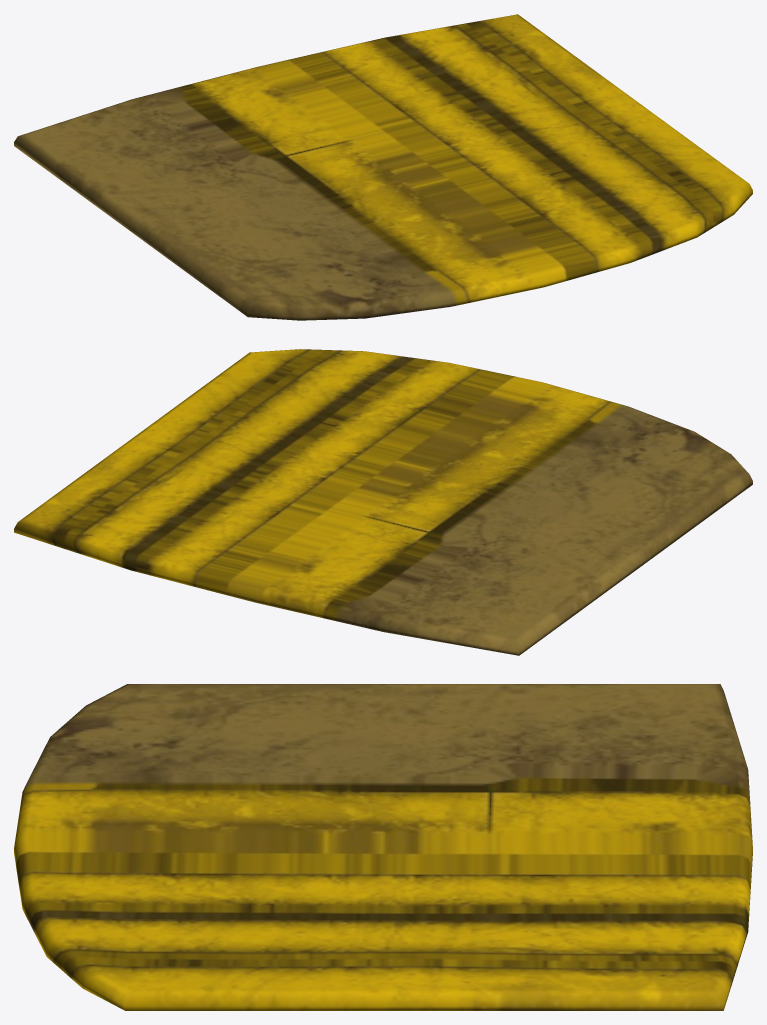
Rendered from Lid.fbx.
The picture shows the model from 3 angles, top to bottom: view 1: azimuth 30°, elevation 25°; view 2: azimuth 150°, elevation 25°; view 3: azimuth 270°, elevation 25°; orthographic projection. The views are drawn at different scales.
Parts seen in each view (by area): view 1: Object_2.001; view 2: Object_2.001; view 3: Object_2.001.
Boxes of the visible parts, x1=… form: Object_2.001: x1=14, y1=14, x2=752, y2=320; Object_2.001: x1=14, y1=349, x2=752, y2=655; Object_2.001: x1=14, y1=684, x2=752, y2=1010.
Bounding box in the file's own units: 1388 × 33.16 × 1374.
